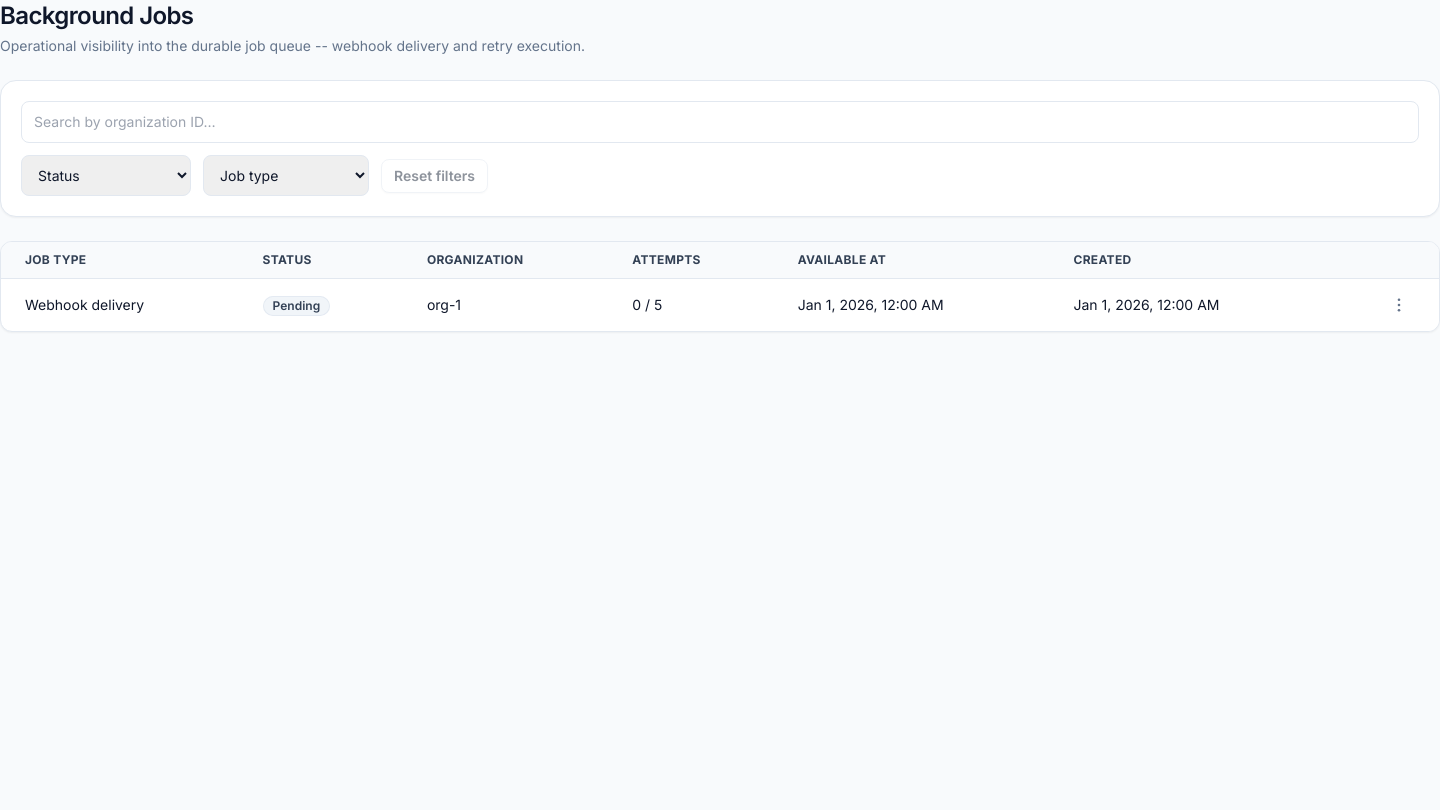
Test: PlatformJobsPage › opens a read-only details drawer showing payload and timing fields
Click the button named "More actions" at coordinates (1399, 305), box x1=1383 y1=289 x2=1415 y2=321
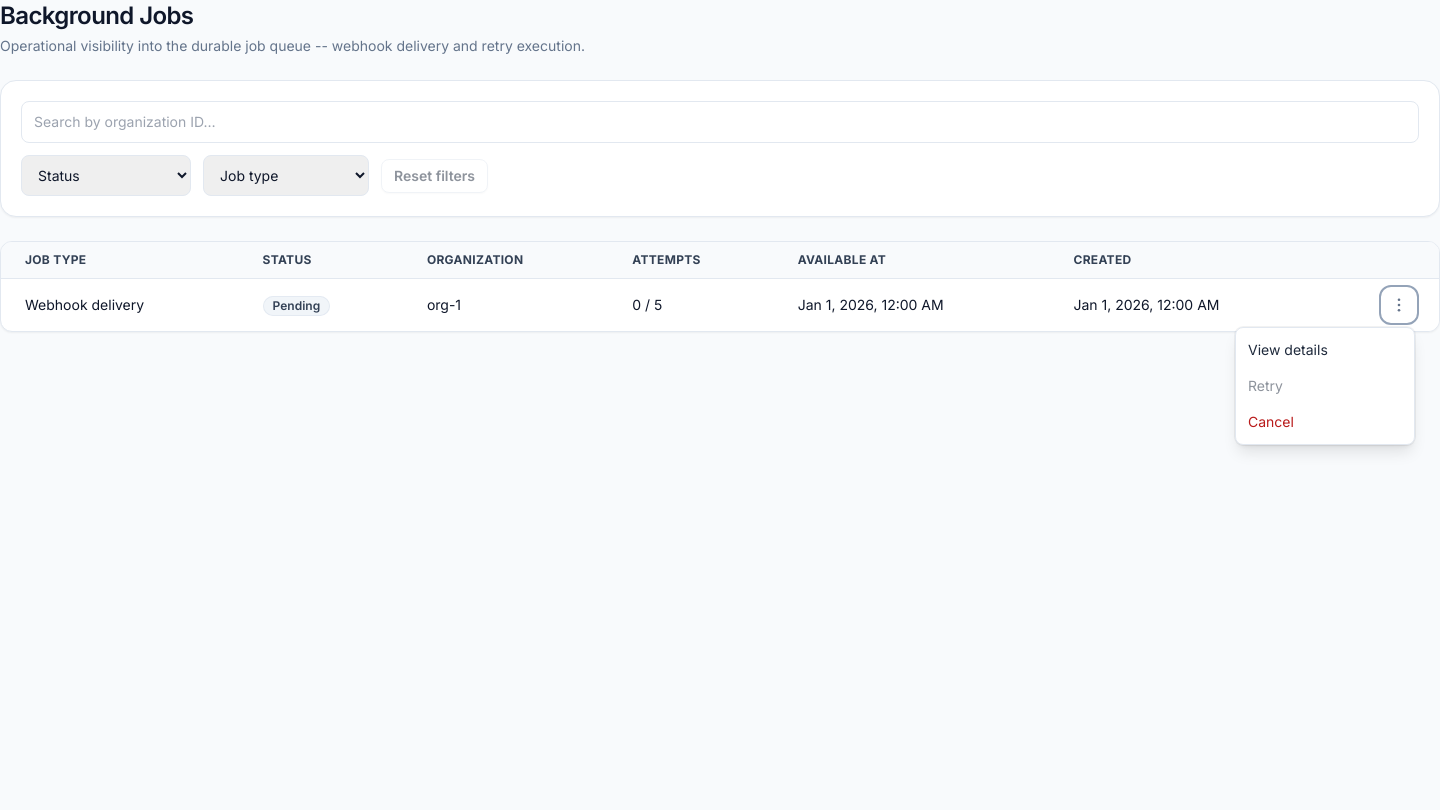
Click the menu item "View details" at coordinates (1325, 350), box x1=1236 y1=332 x2=1414 y2=368
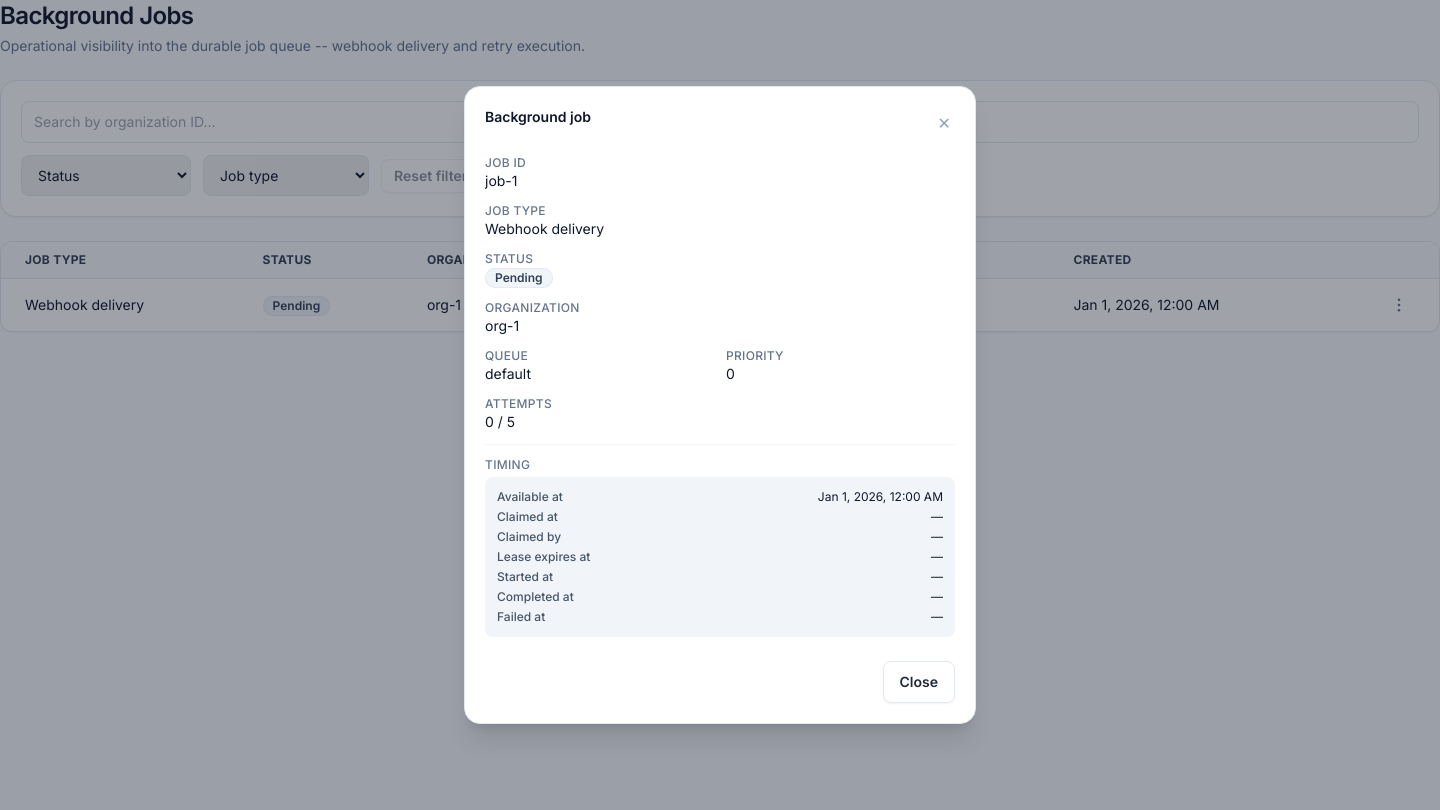
Expected: the heading "Background job" is shown, x1=485 y1=107 x2=591 y2=127
